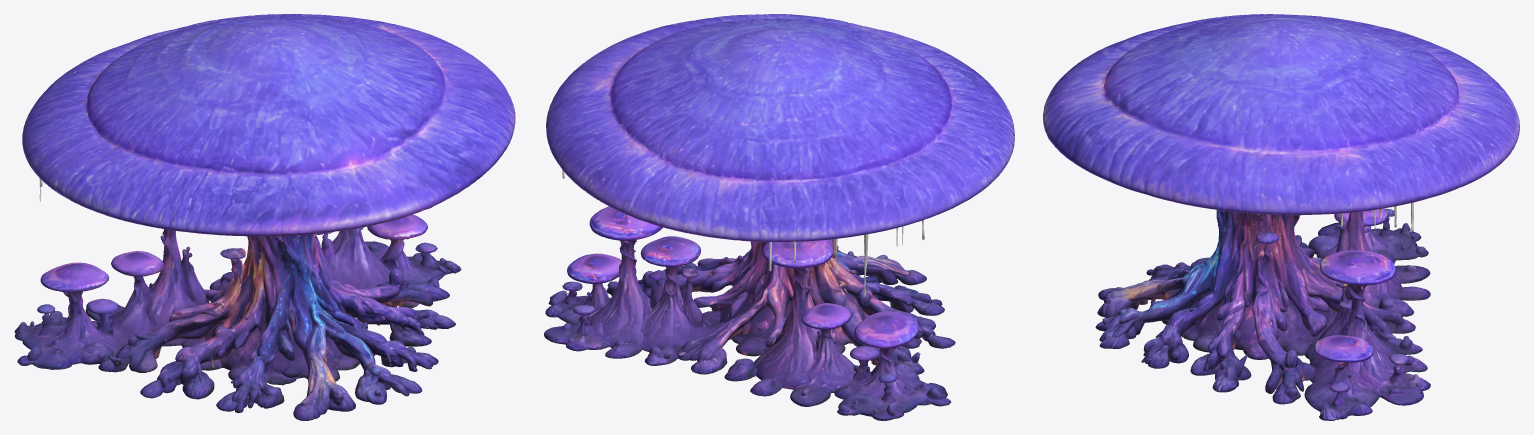
File: mushtree.glb
3 views of the same model, side by side, from view 1: azimuth 30°, elevation 25°; view 2: azimuth 150°, elevation 25°; view 3: azimuth 270°, elevation 25° (orthographic). The views are drawn at different scales.
Parts seen in each view (by area): view 1: tripo_node_f9609c48-cae3-40e6-952b-72bfee29e981; view 2: tripo_node_f9609c48-cae3-40e6-952b-72bfee29e981; view 3: tripo_node_f9609c48-cae3-40e6-952b-72bfee29e981.
Part boxes in pixels (x1,y1,x2,y2): tripo_node_f9609c48-cae3-40e6-952b-72bfee29e981: [14, 14, 515, 420]; tripo_node_f9609c48-cae3-40e6-952b-72bfee29e981: [544, 14, 1014, 420]; tripo_node_f9609c48-cae3-40e6-952b-72bfee29e981: [1043, 14, 1519, 420].
Size of the model in its own units: 447 by 300 by 446.
1 material, 1 textured.
